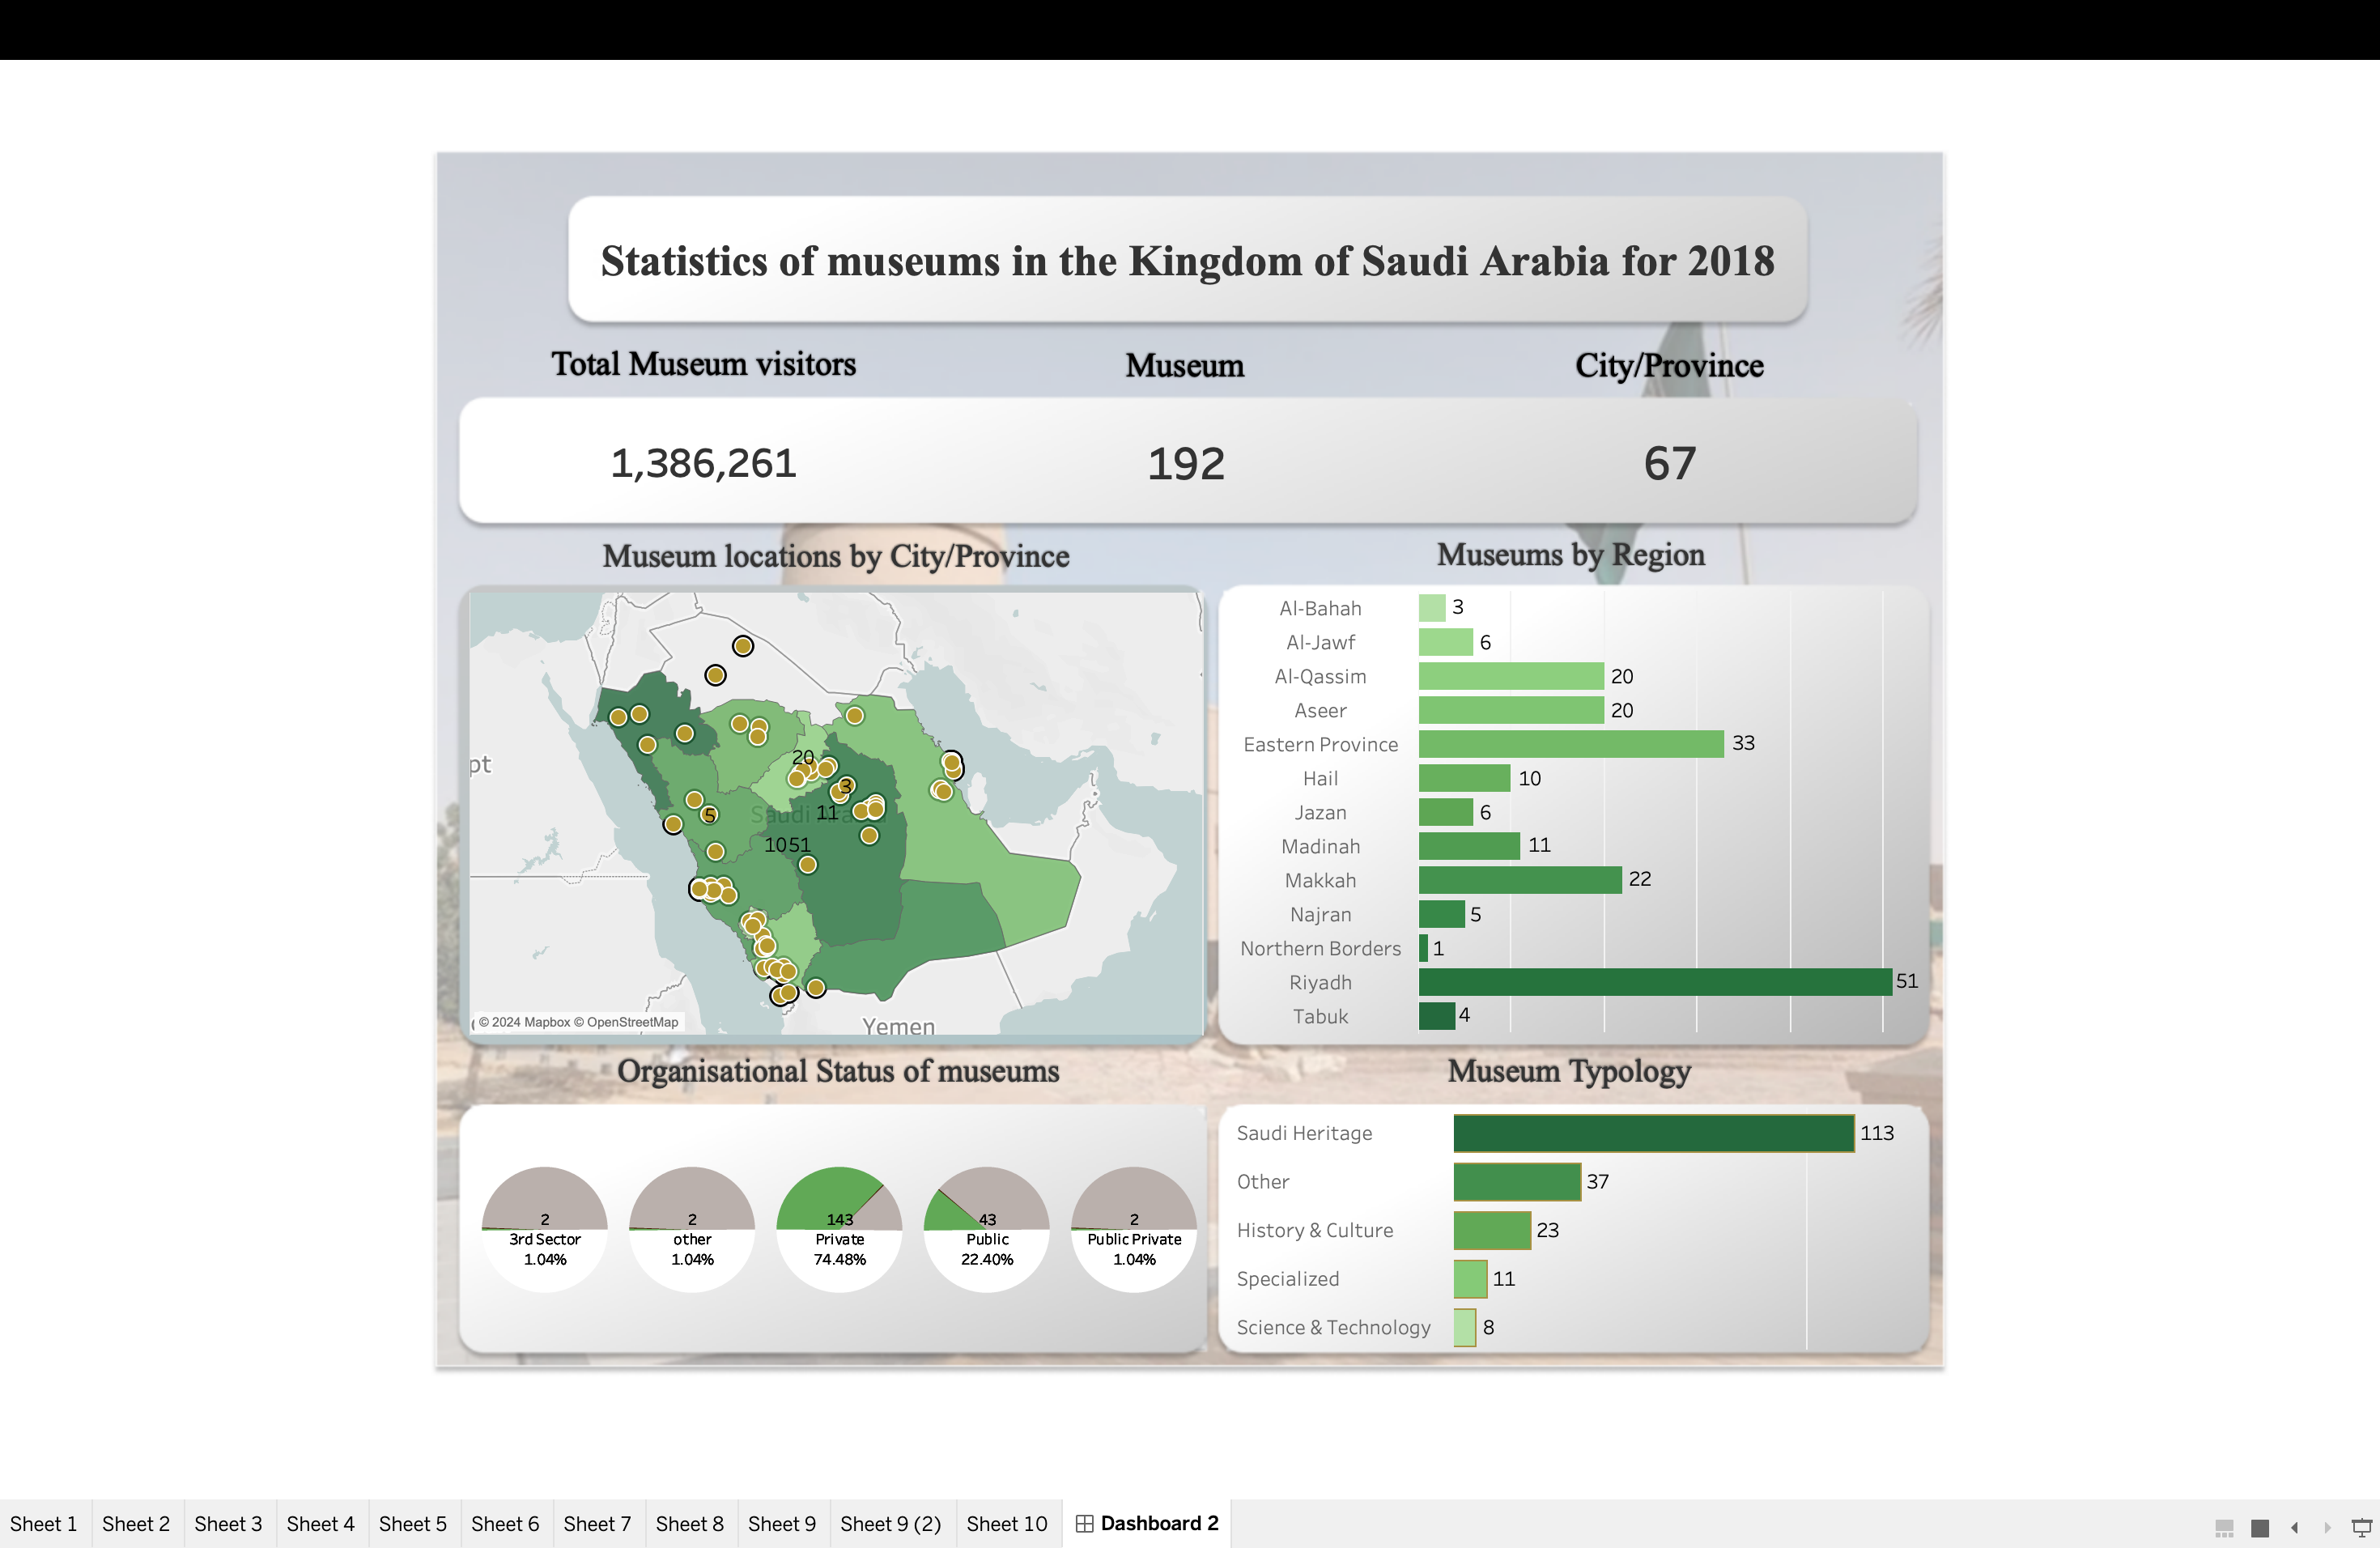

This screenshot's page, from the dashboard's own definition file:
{"tool":"tableau","page":{"name":"Dashboard 2","canvas":[1000,800],"ordinal":0},"visuals":[{"type":"text","box":[121,48,756,64]},{"type":"worksheet","title":"Sheet 7","mark":"Text","box":[55,128,290,112]},{"type":"worksheet","title":"Sheet 5","mark":"Text","box":[362,129,271,111]},{"type":"worksheet","title":"Sheet 6","mark":"Text","box":[648,129,298,111]},{"type":"worksheet","title":"Sheet 4","mark":"Bar","rows":["Province"],"cols":[" Museums_8794DDD121DD491EB9E520471952B653"],"box":[521,246,430,312]},{"type":"worksheet","title":"Sheet 1","mark":"Multipolygon","box":[55,247,454,312]},{"type":"worksheet","title":"Sheet 9 (2)","mark":"Pie","rows":["Calculation_2920021474262732829","Calculation_2920021474274189362"],"cols":["Organisational Status"],"box":[56,565,455,189]},{"type":"worksheet","title":"Sheet 3","mark":"Bar","cols":["Asset Name (ARABIC)"],"box":[523,565,429,193]}]}

Visuals, with their boxes on the page's 1000x800 design canvas (x1, y1, x2, y2). These are canvas units, not pixel positions in the 2380x1548 screenshot, which may show the page scaled, cropped or inside an application window:
text: bbox(121, 48, 877, 112)
"Sheet 7" worksheet (Text marks): bbox(55, 128, 345, 240)
"Sheet 5" worksheet (Text marks): bbox(362, 129, 633, 240)
"Sheet 6" worksheet (Text marks): bbox(648, 129, 946, 240)
"Sheet 4" worksheet (Bar marks): bbox(521, 246, 951, 558)
"Sheet 1" worksheet (Multipolygon marks): bbox(55, 247, 509, 559)
"Sheet 9 (2)" worksheet (Pie marks): bbox(56, 565, 511, 754)
"Sheet 3" worksheet (Bar marks): bbox(523, 565, 952, 758)
